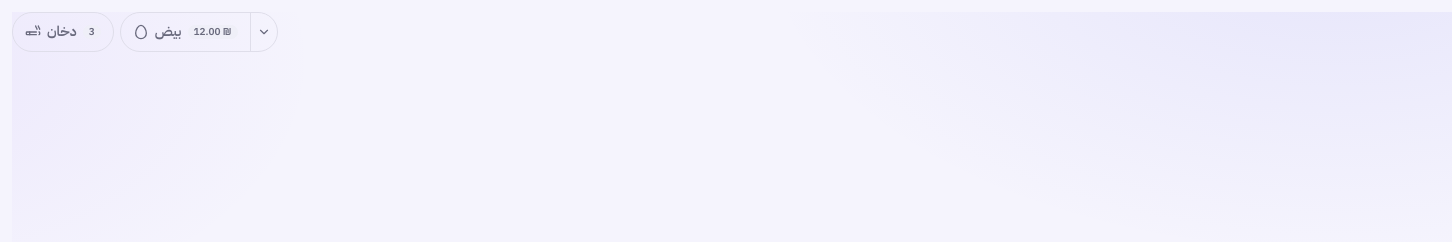
it: opening a card › closes itself after ringing an item — a menu left open hides the cart
This screenshot has width=1452, height=242.
Click the button with test id "quick-card-smoke" at x=63, y=32, box x1=13 y1=13 x2=113 y2=51
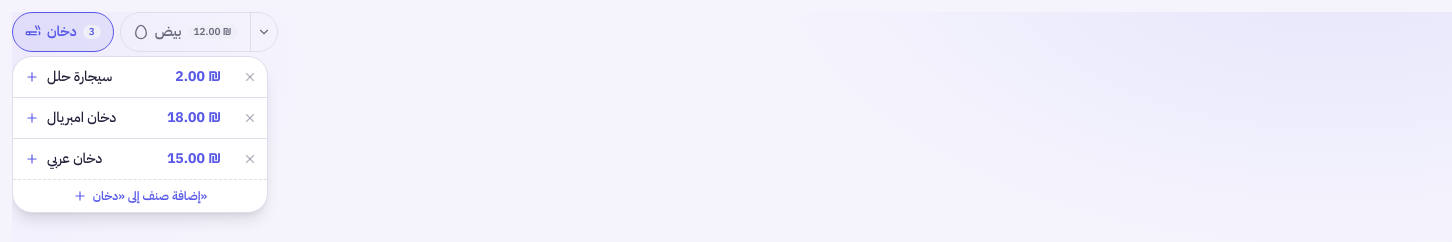
Click the text "دخان عربي" at x=75, y=158, box x1=47 y1=148 x2=102 y2=169
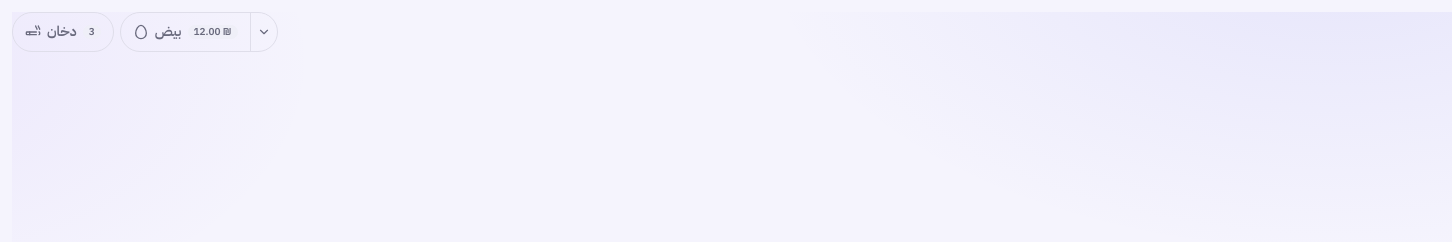
Result: the menu with test id "quick-card-options" is gone
